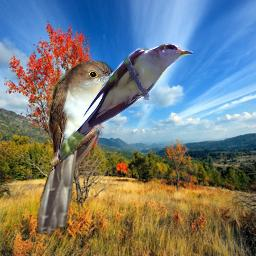Cuckoo: (57, 43, 193, 160), (37, 59, 121, 234)
